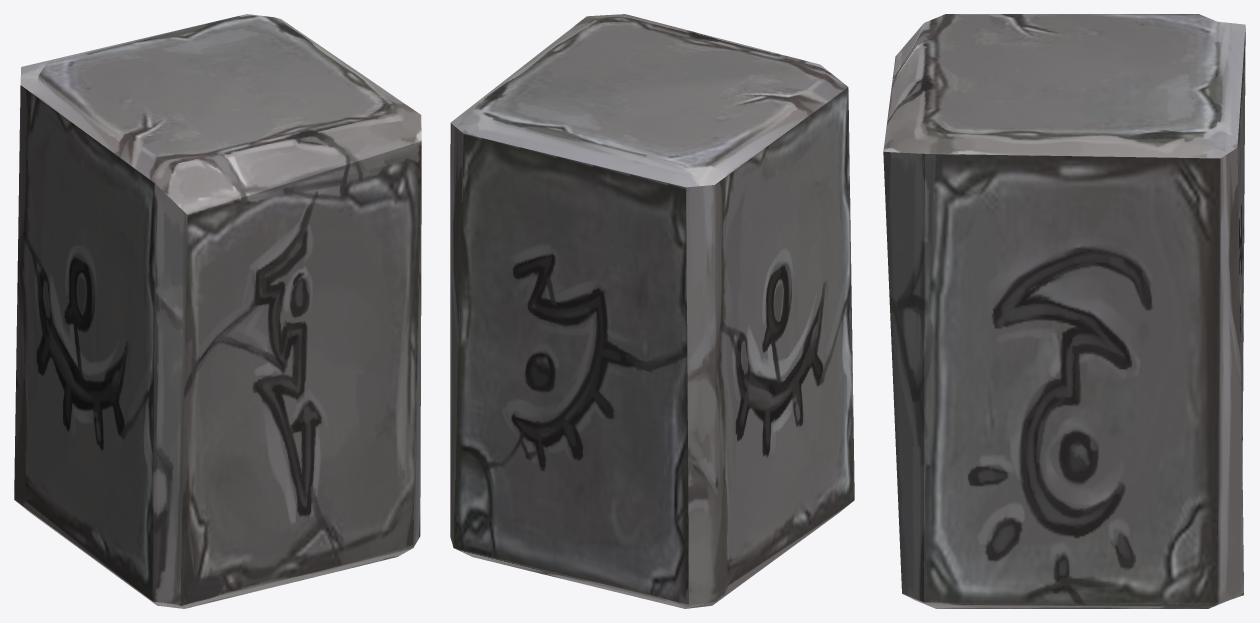
The model's file is odelisk_box1.FBX.
3 views of the same model, side by side, from view 1: azimuth 30°, elevation 25°; view 2: azimuth 150°, elevation 25°; view 3: azimuth 270°, elevation 25° (orthographic). The views are drawn at different scales.
Parts seen in each view (by area): view 1: lock1; view 2: lock1; view 3: lock1.
Boxes of the visible parts, bbox=[...] form: lock1: bbox=[14, 14, 421, 608]; lock1: bbox=[450, 14, 854, 608]; lock1: bbox=[883, 14, 1245, 608].
Size of the model in its own units: 160 by 251 by 175.
